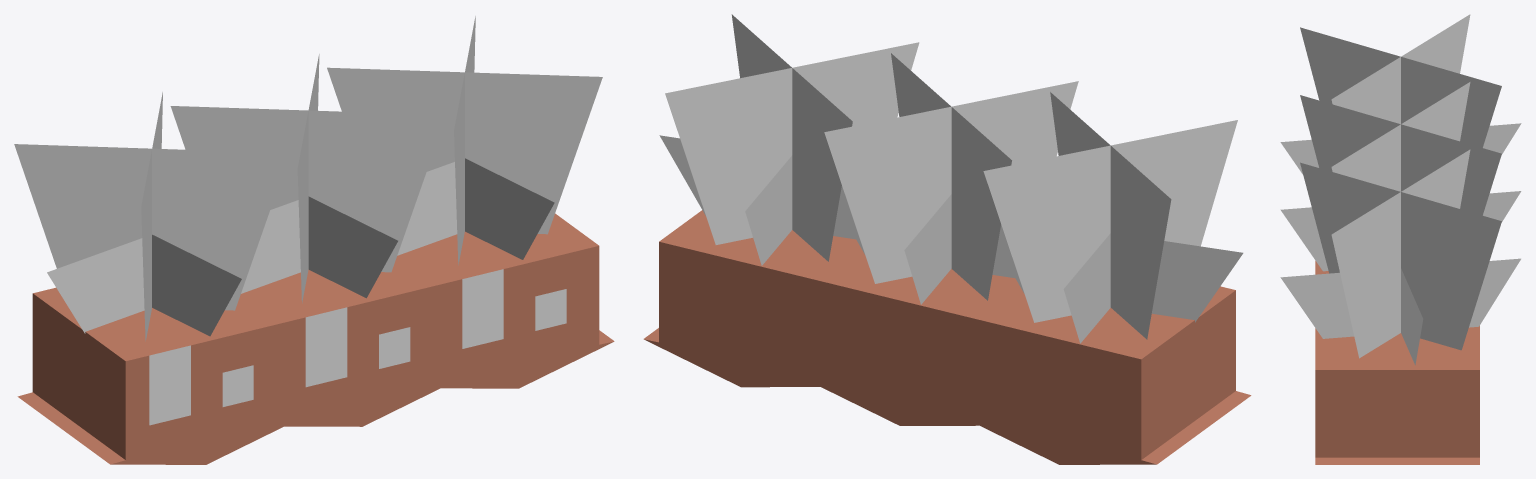
Rendered from TripplePlanter.fbx.
3 renders of one model, left to right at view 1: azimuth 30°, elevation 25°; view 2: azimuth 150°, elevation 25°; view 3: azimuth 270°, elevation 25°, orthographic. The views are drawn at different scales.
Parts seen in each view (by area): view 1: Cube.379; view 2: Cube.379; view 3: Cube.379.
Part boxes in pixels (x1=…): Cube.379: x1=14, y1=16, x2=614, y2=464; Cube.379: x1=643, y1=14, x2=1251, y2=464; Cube.379: x1=1280, y1=14, x2=1521, y2=464.
Size of the model in its own units: 527 by 259 by 227.
